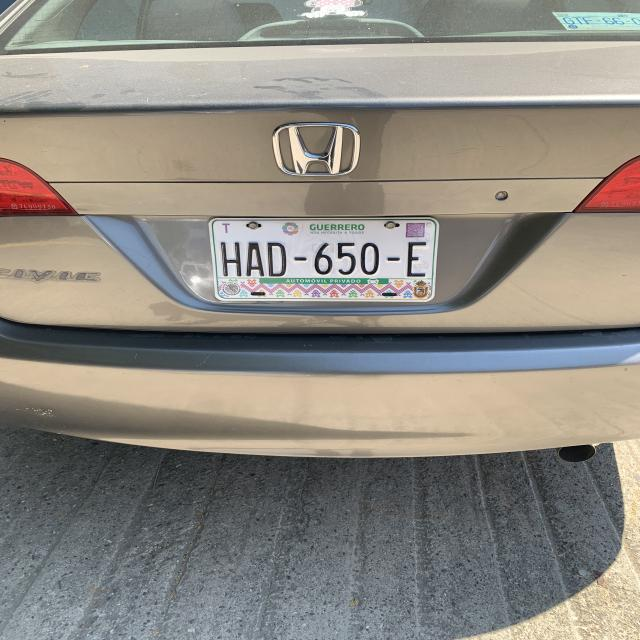placa: (215, 237, 434, 280)
